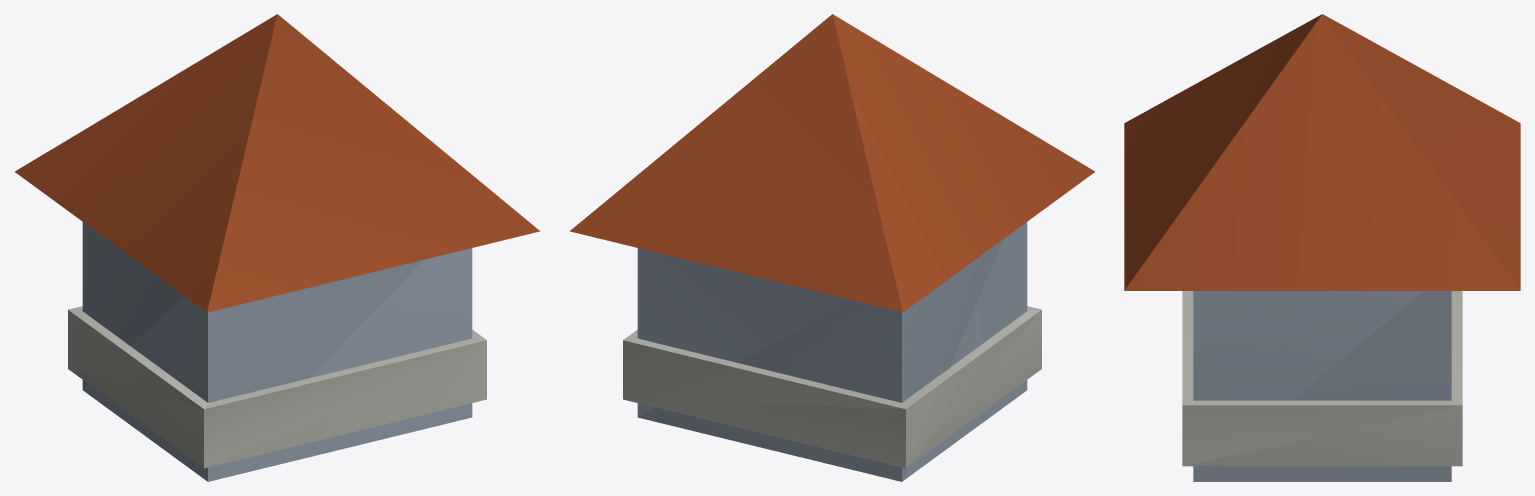
The model's file is afro-bresilien.glb.
The picture shows the model from 3 angles, left to right: view 1: azimuth 30°, elevation 25°; view 2: azimuth 150°, elevation 25°; view 3: azimuth 270°, elevation 25°; orthographic projection. The views are drawn at different scales.
Visible parts, largest first — view 1: afro-bresilien; view 2: afro-bresilien; view 3: afro-bresilien.
Part boxes in pixels (x1=…): afro-bresilien: x1=15, y1=14, x2=539, y2=481; afro-bresilien: x1=570, y1=14, x2=1094, y2=481; afro-bresilien: x1=1124, y1=14, x2=1520, y2=481.
Size of the model in its own units: 0.7071 by 0.79 by 0.7071.
